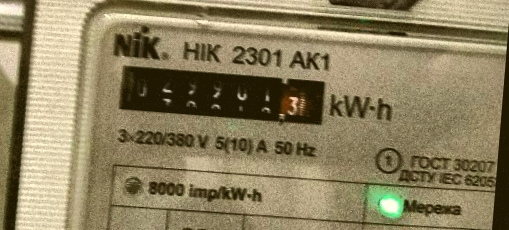0: (234, 76, 250, 102), (133, 75, 151, 97)
1: (259, 79, 274, 103)
2: (158, 74, 176, 94)
3: (285, 92, 300, 115)
9: (209, 76, 225, 99), (184, 74, 198, 97)
screen: (105, 53, 337, 135)
